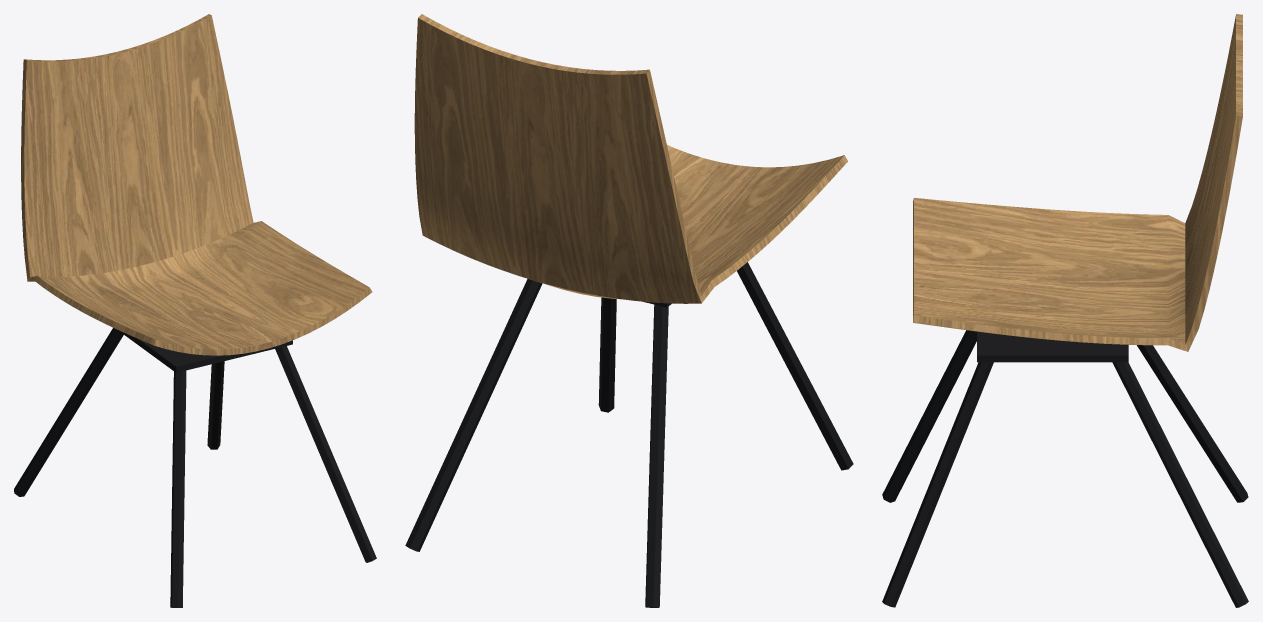
Rendered from shell_oak.glb.
3 renders of one model, left to right at view 1: azimuth 30°, elevation 25°; view 2: azimuth 150°, elevation 25°; view 3: azimuth 270°, elevation 25°, orthographic. The views are drawn at different scales.
Parts seen in each view (by area): view 1: shell_oak; view 2: shell_oak; view 3: shell_oak.
Boxes of the visible parts, <box> form: shell_oak: <box>14,14,376,607</box>; shell_oak: <box>405,14,853,607</box>; shell_oak: <box>882,14,1248,607</box>.
Bounding box in the file's own units: 0.4733 × 0.8556 × 0.5808.
2 materials, 1 textured.
